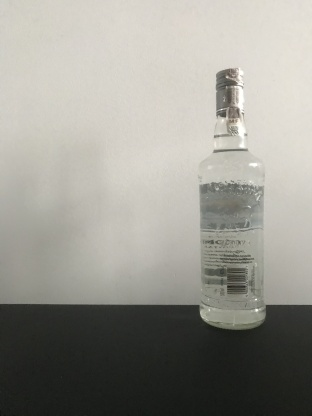nakretka: (213, 64, 246, 118)
